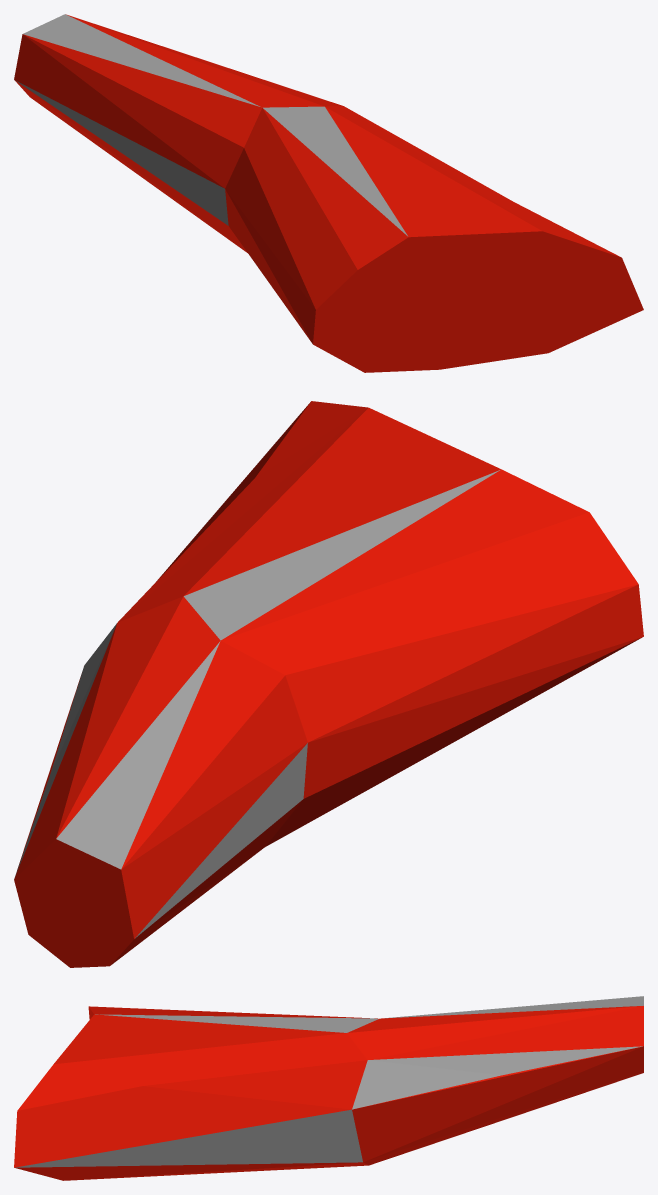
The model's file is MearOne.fbx.
The picture shows the model from 3 angles, top to bottom: view 1: azimuth 30°, elevation 25°; view 2: azimuth 150°, elevation 25°; view 3: azimuth 270°, elevation 25°; orthographic projection. The views are drawn at different scales.
Visible parts, largest first — view 1: Cylinder; view 2: Cylinder; view 3: Cylinder.
Part boxes in pixels (box(x1,y1,x2,y2)): Cylinder: box(14, 14, 643, 372); Cylinder: box(14, 401, 643, 967); Cylinder: box(14, 996, 643, 1180).
Bounding box in the file's own units: 294 × 157 × 655.
